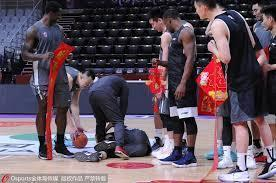Fall-Detected: (71, 120, 153, 159)
